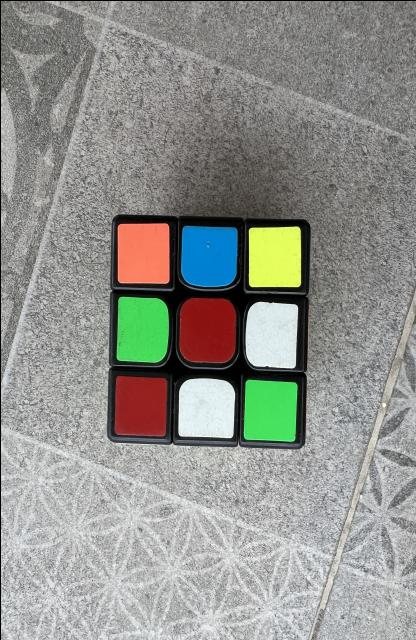Blue: (180, 225, 236, 286)
Green: (116, 296, 168, 362), (243, 379, 297, 441)
Orange: (117, 222, 169, 282)
Red: (179, 296, 235, 362), (114, 375, 167, 435)
White: (245, 301, 297, 368), (178, 378, 234, 438)
Yellow: (248, 225, 300, 286)
